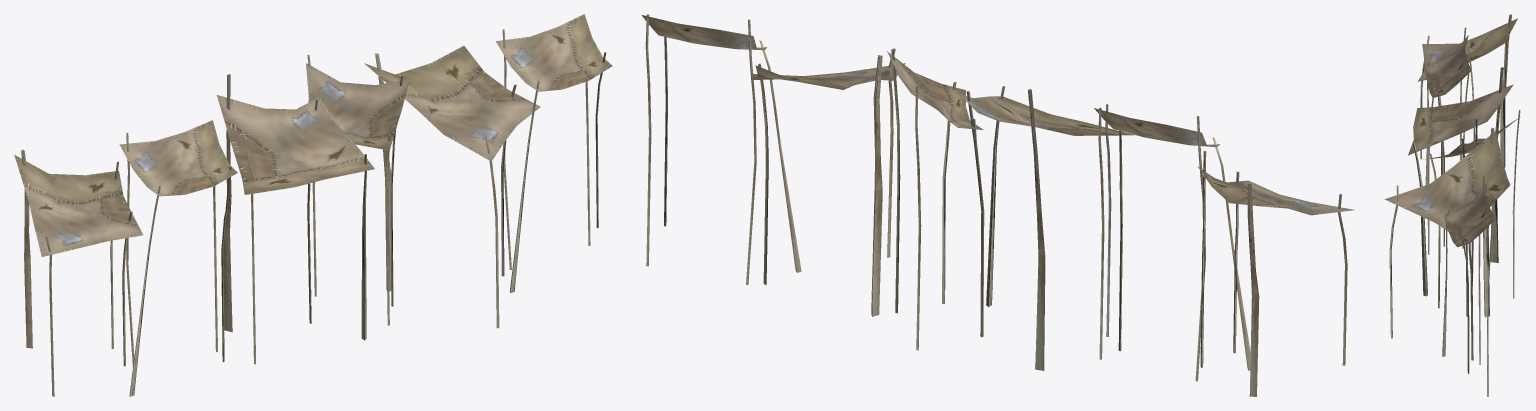
Rendered from pir_m_prp_tnt_group6.fbx.
3 views of the same model, side by side, from view 1: azimuth 30°, elevation 25°; view 2: azimuth 150°, elevation 25°; view 3: azimuth 270°, elevation 25° (orthographic). The views are drawn at different scales.
Parts seen in each view (by area): view 1: canopy03, canopy05, canopy01, canopy02, canopy06, canopy04, post23, post24, post13, pasted__post12, post22, pasted__post16 (+5 smaller); view 2: canopy03, canopy04, canopy01, post22, post23, canopy06, canopy02, canopy05, post24, post13, pasted__post12, post9 (+12 smaller); view 3: canopy05, canopy03, canopy06, canopy01, canopy02, post24, post23, post22, post13, post16, post10, canopy04 (+10 smaller).
Boxes of the visible parts, x1,y1,x2,y2 form: canopy03: [217, 95, 374, 194]; canopy05: [364, 46, 540, 161]; canopy01: [14, 155, 142, 256]; canopy02: [119, 120, 237, 196]; canopy06: [496, 14, 612, 91]; canopy04: [306, 63, 409, 150]; post23: [223, 74, 232, 332]; post24: [21, 149, 32, 348]; post13: [361, 154, 366, 340]; pasted__post12: [510, 81, 539, 293]; post22: [375, 53, 393, 291]; pasted__post16: [129, 185, 160, 396]; canopy03: [958, 93, 1134, 135]; canopy04: [887, 51, 983, 129]; canopy01: [1197, 166, 1354, 215]; post22: [871, 55, 882, 316]; post23: [1028, 89, 1045, 370]; canopy06: [641, 15, 766, 50]; canopy02: [1094, 108, 1219, 147]; canopy05: [753, 63, 905, 89]; post24: [1247, 182, 1259, 396]; post13: [986, 86, 1004, 307]; pasted__post12: [759, 40, 801, 272]; post9: [891, 49, 900, 313]; canopy05: [1384, 131, 1510, 231]; canopy03: [1408, 84, 1513, 155]; canopy06: [1444, 183, 1495, 247]; canopy01: [1418, 18, 1517, 81]; canopy02: [1424, 35, 1471, 97]; post24: [1500, 14, 1511, 167]; post23: [1490, 67, 1503, 262]; post22: [1483, 127, 1494, 317]; post13: [1413, 143, 1427, 296]; post16: [1389, 185, 1398, 338]; post10: [1512, 110, 1520, 298]; canopy04: [1423, 118, 1517, 159].
Size of the model in its own units: 5619 by 2268 by 1438.
2 materials, 2 textured.
